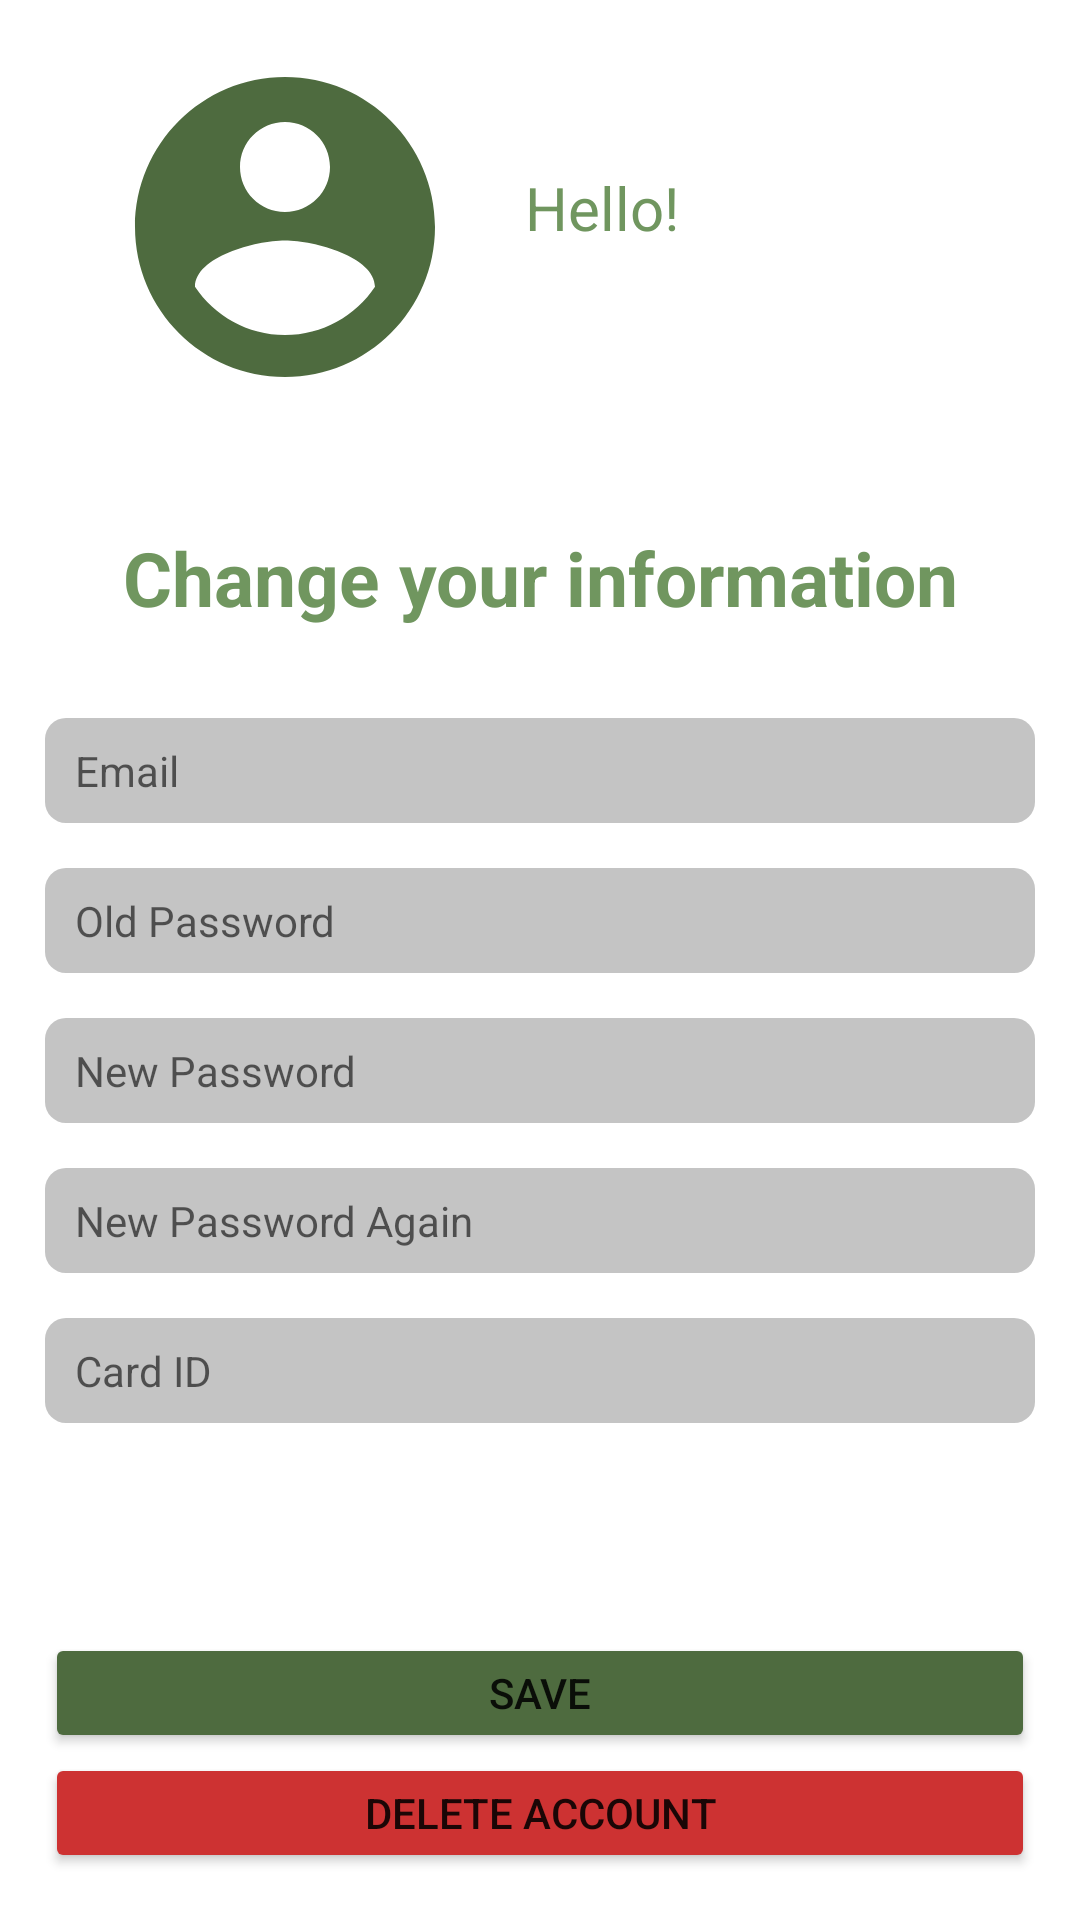

Locate icon controls on the screen. Image size 1080px×1920px, boxes as (x1, y1, x2, y2).
account circle: (135, 77, 435, 377)
